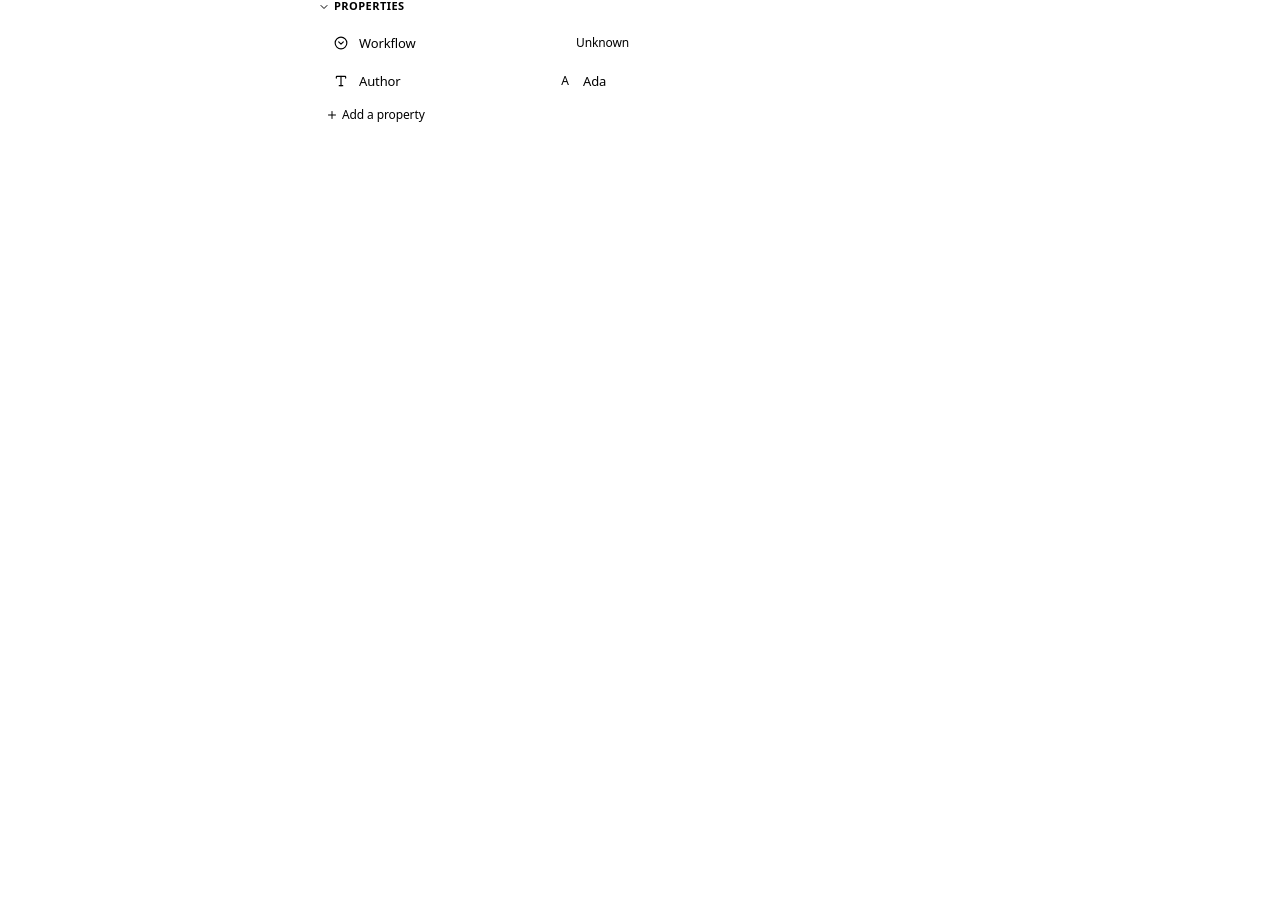
Test: Property value editors › renders orphaned options and remote people without rewriting values
The width and height of the screenshot is (1280, 900).
Expected: the text "Unknown" is shown, x1=576 y1=32 x2=629 y2=54
Expected: the text "Ada" is shown, x1=583 y1=72 x2=606 y2=90
Click the button with class "note-property-value" at (565,80), box x1=544 y1=62 x2=960 y2=99
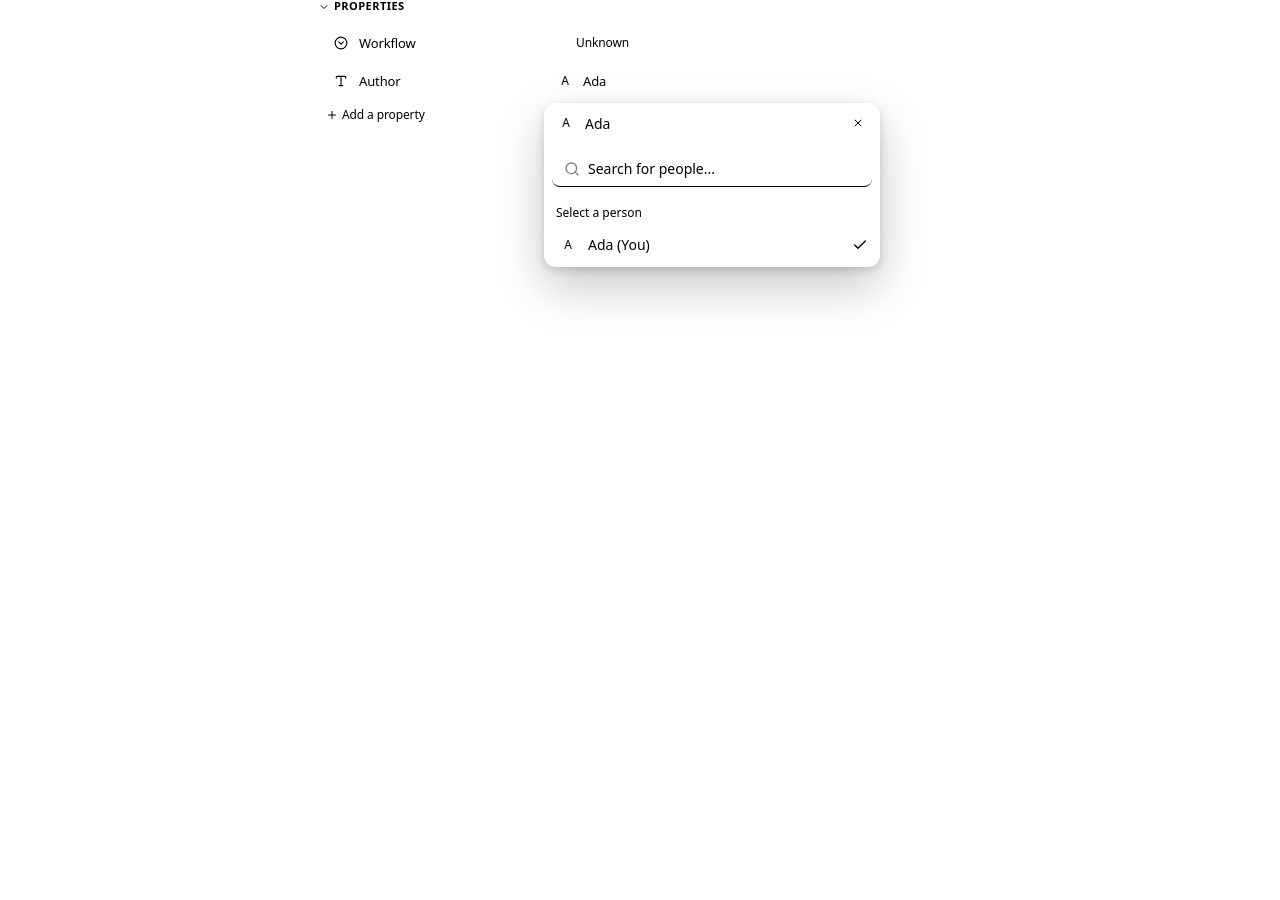
Expected: the dropdown with placeholder "Search for people..." is shown, x1=588 y1=148 x2=860 y2=188
